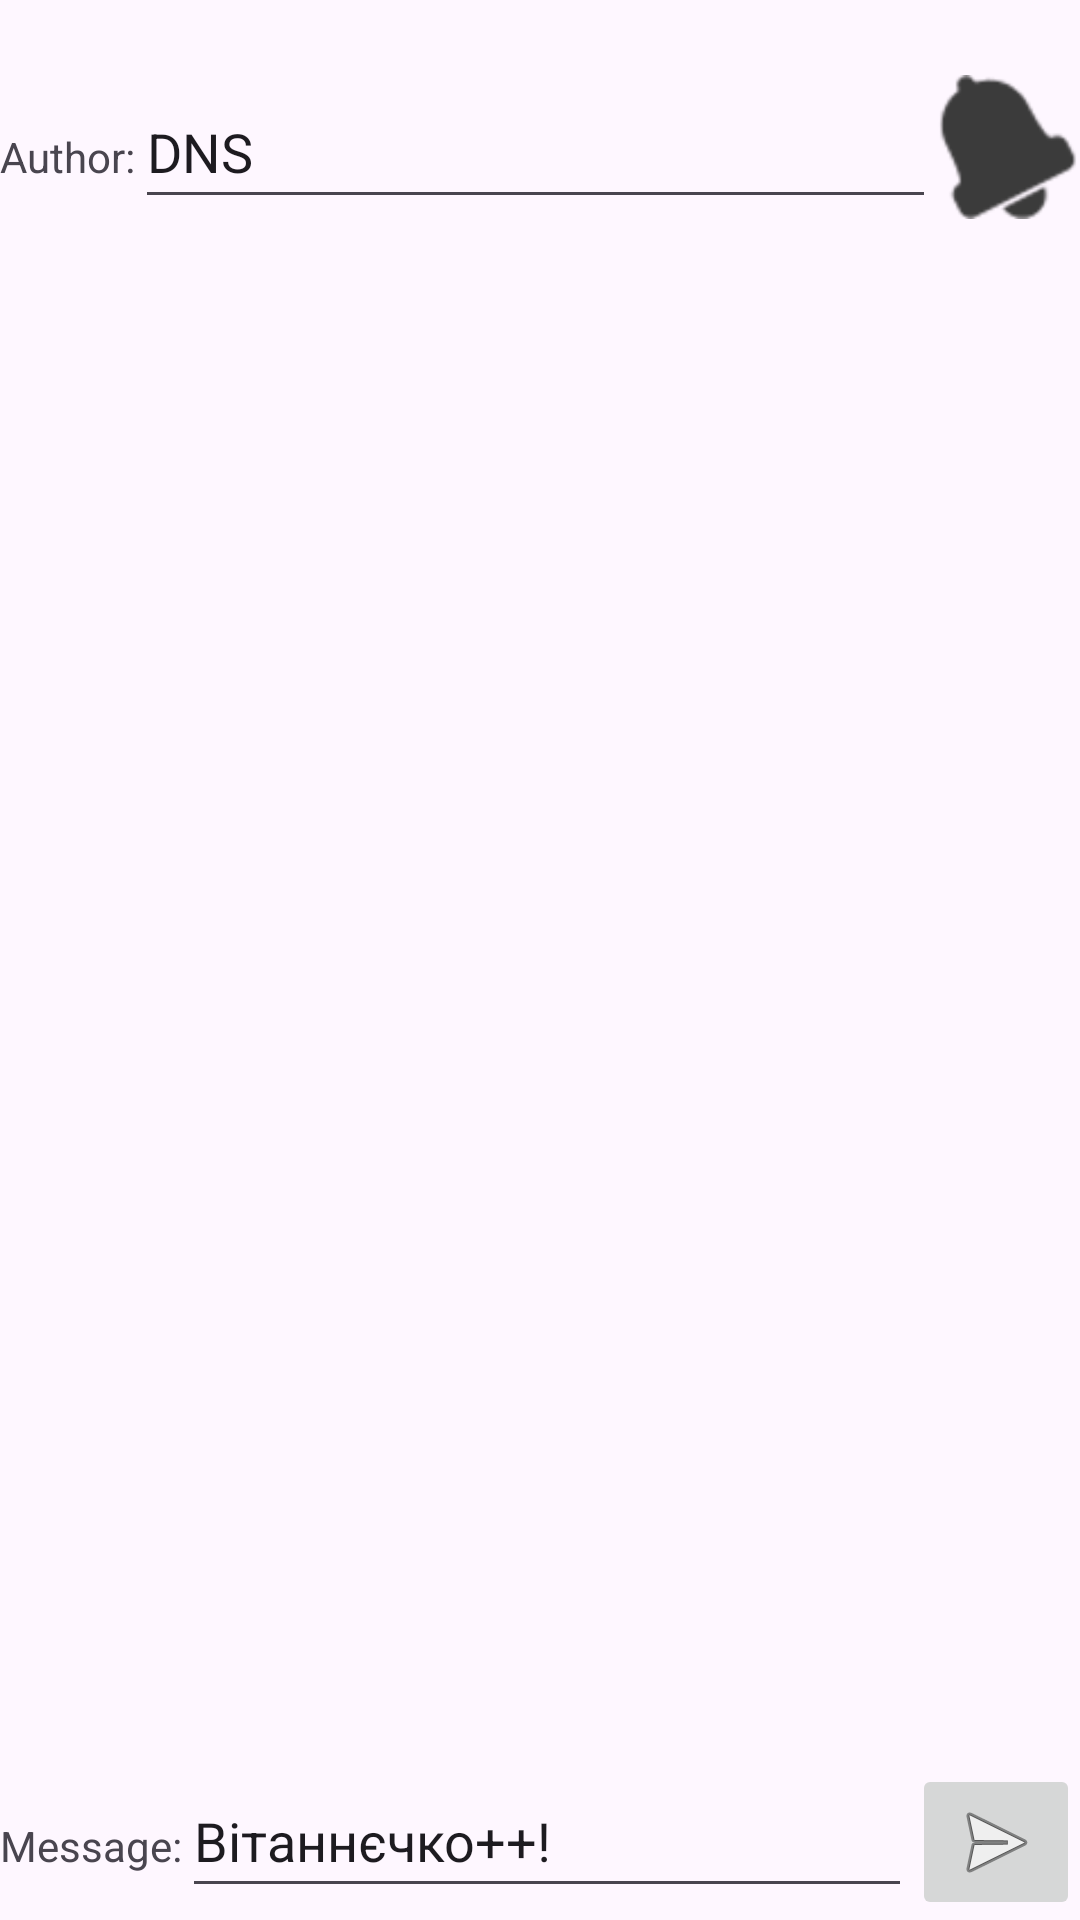

Where icons sit on this 1080px x 1920px app screen, as box=[x1, y1, x2, y2]:
popup reminder: box=[940, 75, 1076, 219]
Send: box=[924, 1782, 1068, 1902]
